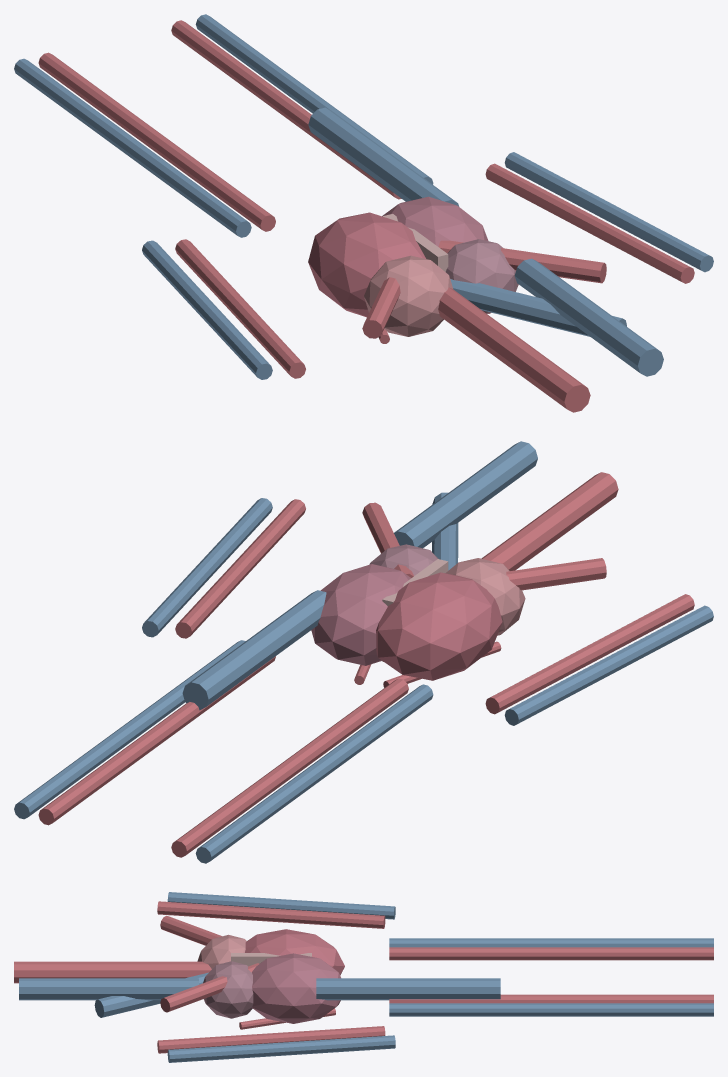
The model's file is cardiovascular-g3-low.glb.
3 views of the same model, one above another, from view 1: azimuth 30°, elevation 25°; view 2: azimuth 150°, elevation 25°; view 3: azimuth 270°, elevation 25° (orthographic). The views are drawn at different scales.
Parts seen in each view (by area): view 1: left_ventricle, aorta, left_leg_vein, left_leg_artery, superior_vena_cava, left_atrium, inferior_vena_cava, right_arm_vein, right_arm_artery, right_leg_artery, right_leg_vein, left_arm_vein (+7 smaller); view 2: left_ventricle, right_ventricle, left_leg_artery, left_leg_vein, inferior_vena_cava, superior_vena_cava, aorta, right_leg_vein, left_arm_artery, left_arm_vein, right_leg_artery, right_arm_vein (+6 smaller); view 3: right_ventricle, left_leg_artery, right_leg_vein, inferior_vena_cava, superior_vena_cava, aorta, left_leg_vein, left_arm_artery, right_arm_vein, right_leg_artery, right_arm_artery, left_arm_vein (+8 smaller).
Part boxes in pixels (<box>): left_ventricle: <box>308,212,425,317</box>; aorta: <box>438,287,590,412</box>; left_leg_vein: <box>14,58,251,237</box>; left_leg_artery: <box>38,52,275,231</box>; superior_vena_cava: <box>514,258,663,376</box>; left_atrium: <box>364,255,452,336</box>; inferior_vena_cava: <box>308,107,459,206</box>; right_arm_vein: <box>504,152,713,272</box>; right_arm_artery: <box>485,163,694,283</box>; right_leg_artery: <box>171,20,401,199</box>; right_leg_vein: <box>195,14,433,184</box>; left_arm_vein: <box>142,240,272,379</box>; left_ventricle: <box>376,572,502,680</box>; right_ventricle: <box>311,564,410,665</box>; left_leg_artery: <box>171,678,408,857</box>; left_leg_vein: <box>195,684,433,863</box>; inferior_vena_cava: <box>182,590,326,710</box>; superior_vena_cava: <box>394,441,537,548</box>; aorta: <box>481,472,618,570</box>; right_leg_vein: <box>14,640,245,819</box>; left_arm_artery: <box>485,594,694,714</box>; left_arm_vein: <box>504,605,713,725</box>; right_leg_artery: <box>38,656,275,825</box>; right_arm_vein: <box>142,498,272,637</box>; right_ventricle: <box>252,953,340,1023</box>; left_leg_artery: <box>389,947,713,960</box>; right_leg_vein: <box>389,1003,713,1016</box>; inferior_vena_cava: <box>316,978,500,1000</box>; superior_vena_cava: <box>19,978,198,1000</box>; aorta: <box>14,961,211,983</box>; left_leg_vein: <box>389,938,713,947</box>; left_arm_artery: <box>157,901,385,928</box>; right_arm_vein: <box>167,1035,395,1062</box>; right_leg_artery: <box>389,994,713,1003</box>; right_arm_artery: <box>157,1026,385,1053</box>; left_arm_vein: <box>167,892,395,919</box>.
Size of the model in its own units: 2.62 by 0.4847 by 4.75.
